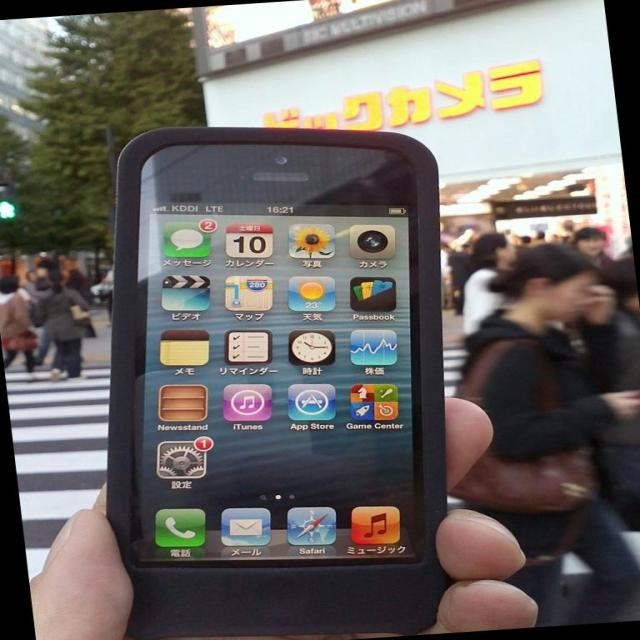handphone: (127, 122, 442, 636)
